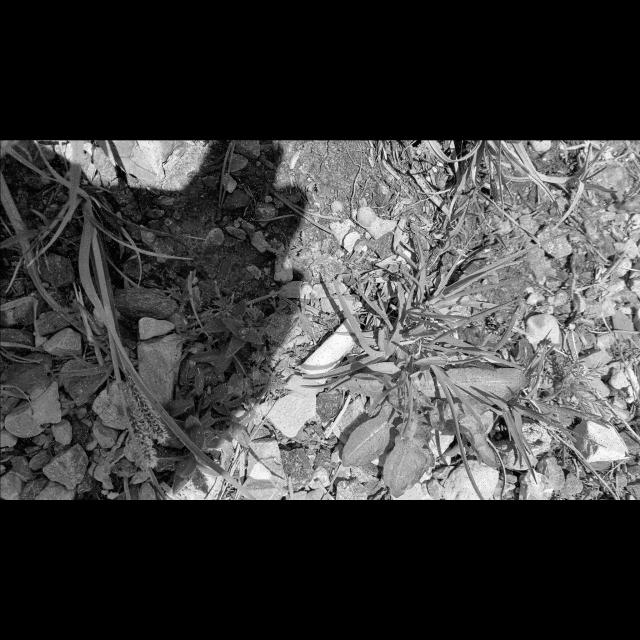cigarette: (301, 315, 364, 384)
